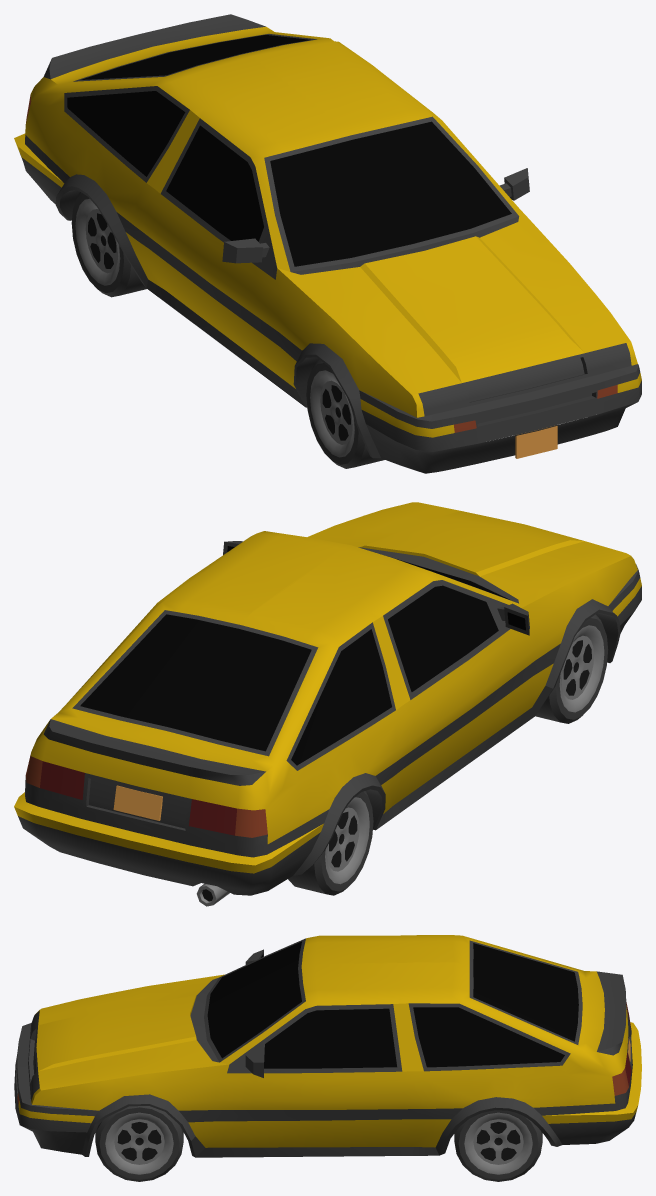
The model's file is toro86.glb.
3 views of the same model, one above another, from view 1: azimuth 30°, elevation 25°; view 2: azimuth 150°, elevation 25°; view 3: azimuth 270°, elevation 25° (orthographic). The views are drawn at different scales.
Visible parts, largest first — view 1: body, glass, wheel_fr_stock, wheel_rr_stock, plate_front; view 2: body, glass, wheel_fr_stock, wheel_rr_stock, lights, plate_rear; view 3: body, glass, wheel_fl_stock, wheel_rl_stock, lights.
Boxes of the visible parts, x1,y1,x2,y2 form: body: [14, 14, 641, 473]; glass: [67, 35, 511, 266]; wheel_fr_stock: [306, 359, 384, 468]; wheel_rr_stock: [71, 192, 146, 297]; plate_front: [515, 425, 557, 458]; body: [14, 502, 641, 906]; glass: [80, 546, 525, 765]; wheel_fr_stock: [535, 614, 608, 723]; wheel_rr_stock: [288, 791, 373, 895]; lights: [25, 754, 267, 837]; plate_rear: [113, 785, 162, 820]; body: [14, 935, 641, 1157]; glass: [207, 941, 578, 1068]; wheel_fl_stock: [95, 1106, 183, 1181]; wheel_rl_stock: [454, 1110, 542, 1181]; lights: [17, 1002, 631, 1105].
Bounding box in the file's own units: 1.86 × 1.33 × 4.31.
